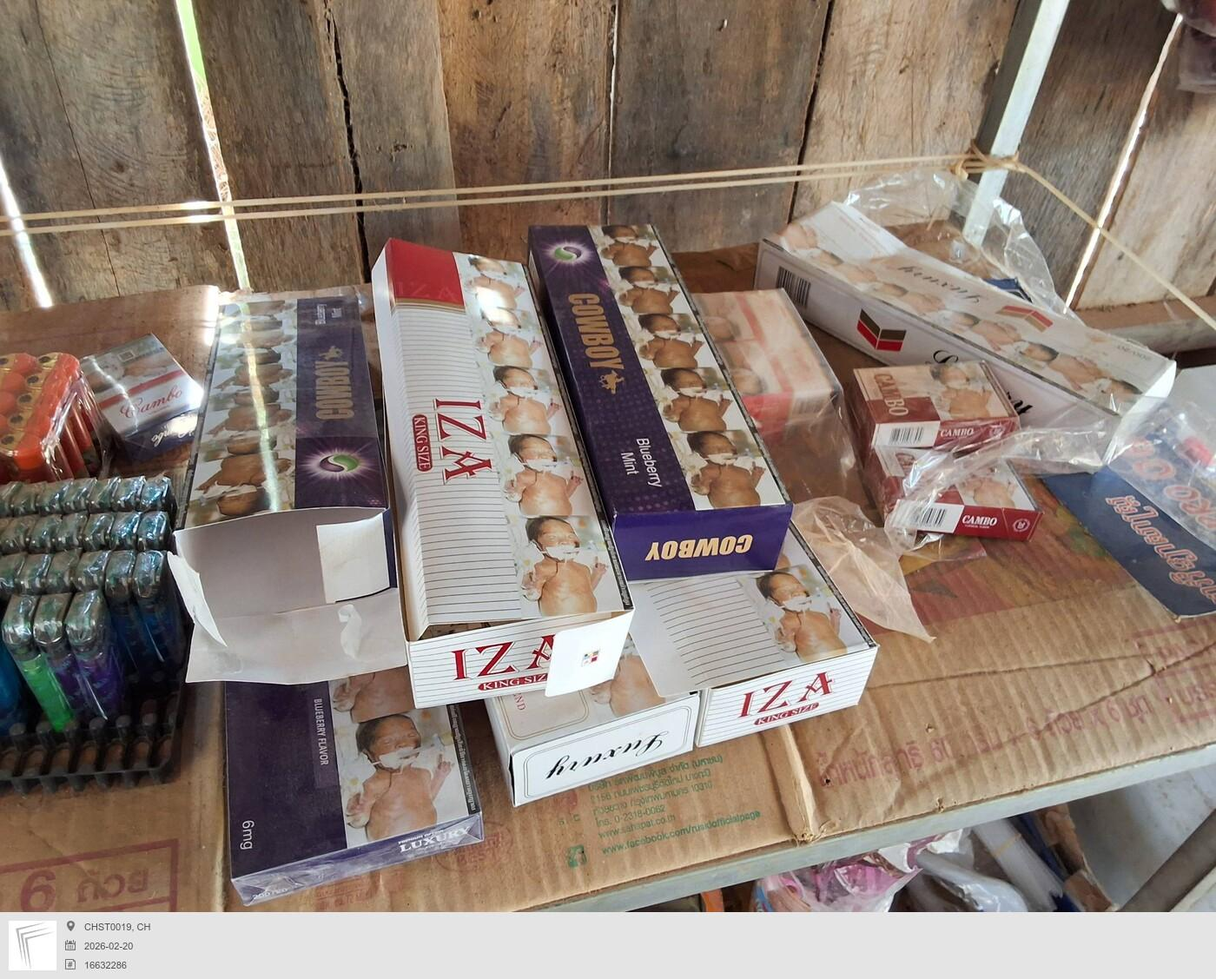cigarette_pack: (352, 232, 637, 706), (777, 192, 1171, 443), (525, 217, 778, 558), (189, 294, 364, 678), (231, 656, 470, 907), (674, 565, 862, 748), (479, 652, 684, 817), (862, 446, 1036, 540), (69, 328, 210, 443), (861, 354, 1017, 446), (707, 341, 840, 432), (684, 290, 795, 341)
